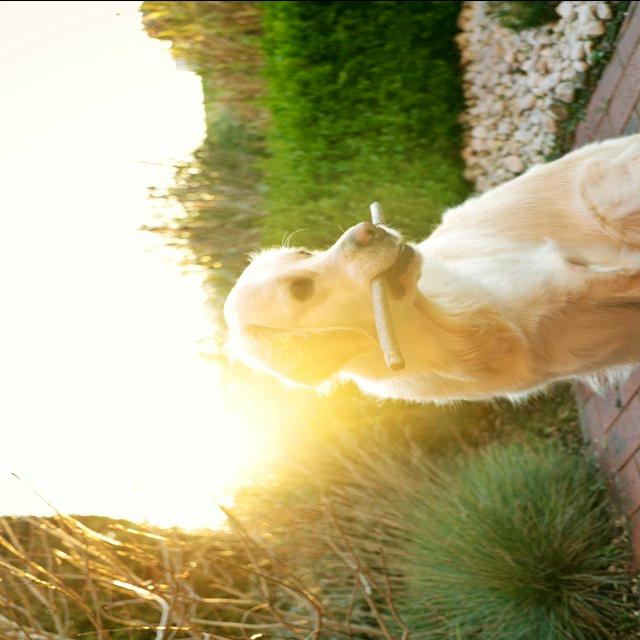retriever: (221, 130, 638, 405)
